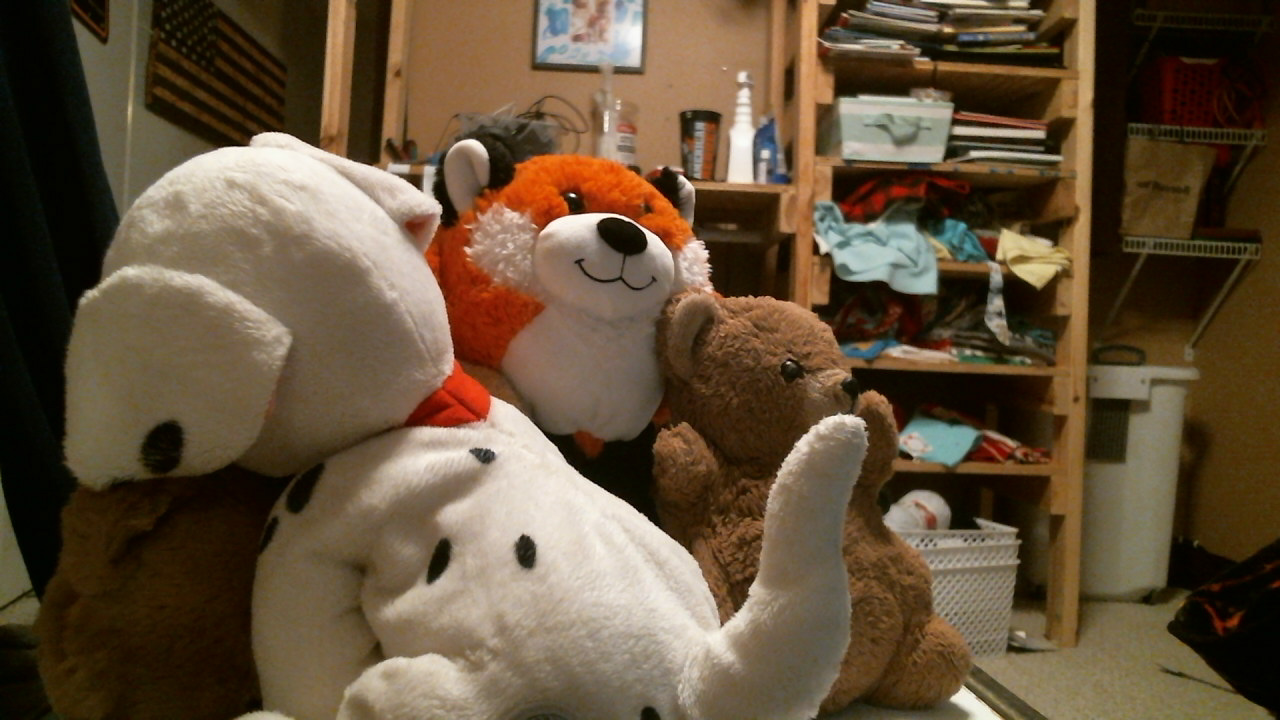Little_Mister_Bear: (751, 349, 861, 420)
